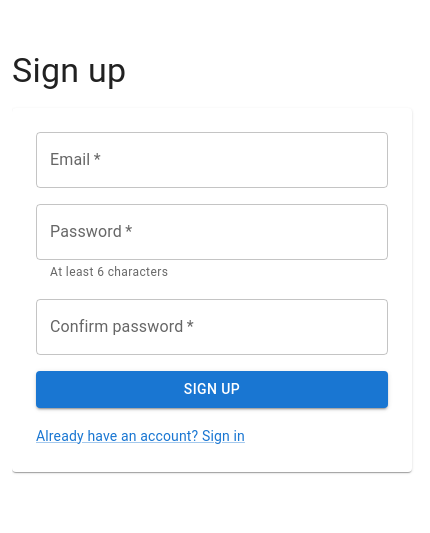
it: SignupPage › shows error when password is too short
The width and height of the screenshot is (430, 533).
Type "test@example.com" into the field labelled "Email *" at (212, 160), box [36,132,388,188]
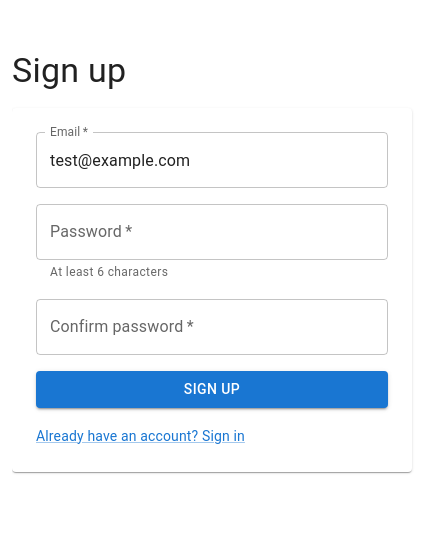
Type "12345" into the password field labelled "Password *" at (212, 232), box [36,204,388,260]
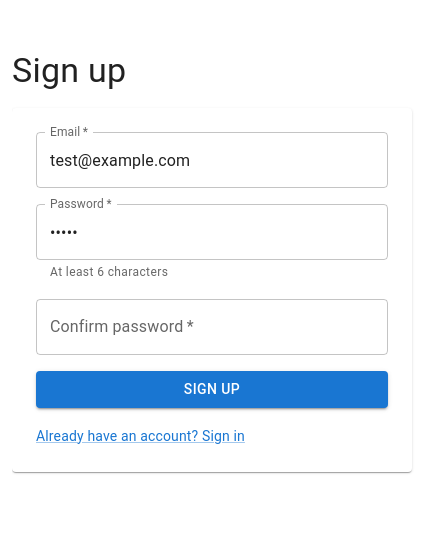
Type "12345" into the password field labelled "Confirm password *" at (212, 327), box [36,299,388,355]
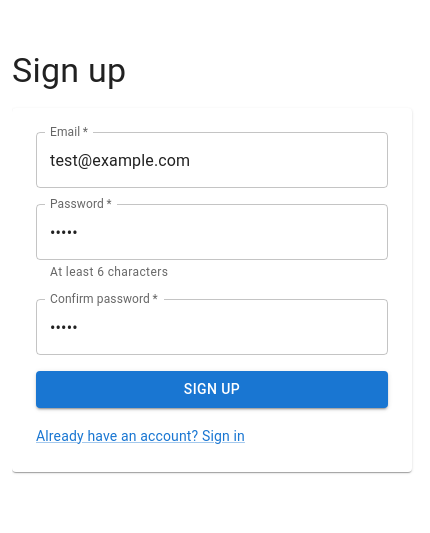
Submit the form from the button "Sign up", box [36,371,388,408]
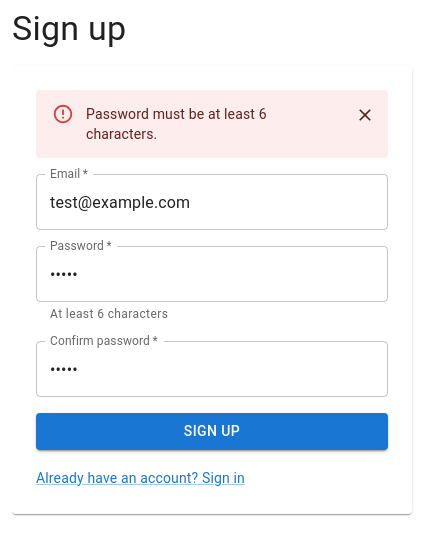
Check: the text "Password must be at least 6 characters." is shown, box [86,106,267,142]
